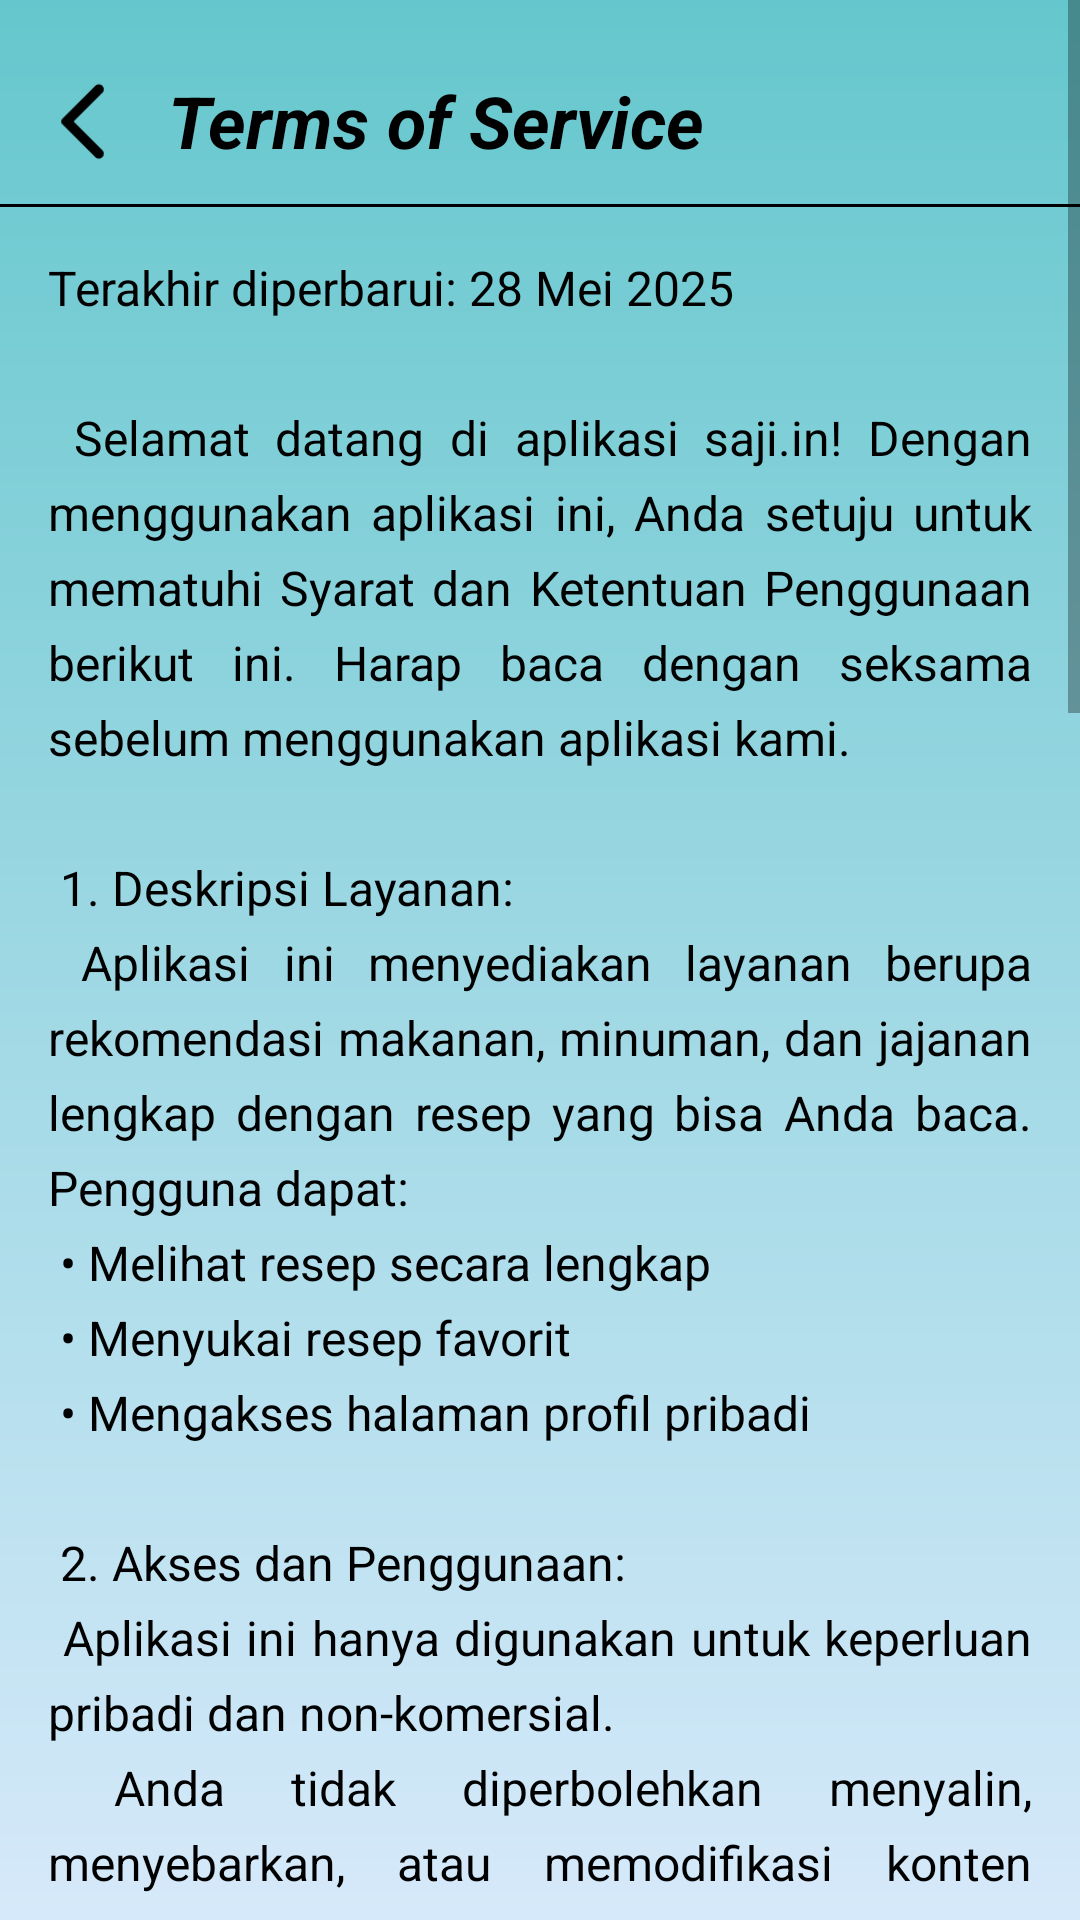

Icons on this 1080×1920 Android screen, each with its box as (x1, y1, x2, y2):
Back: (61, 84, 104, 159)
